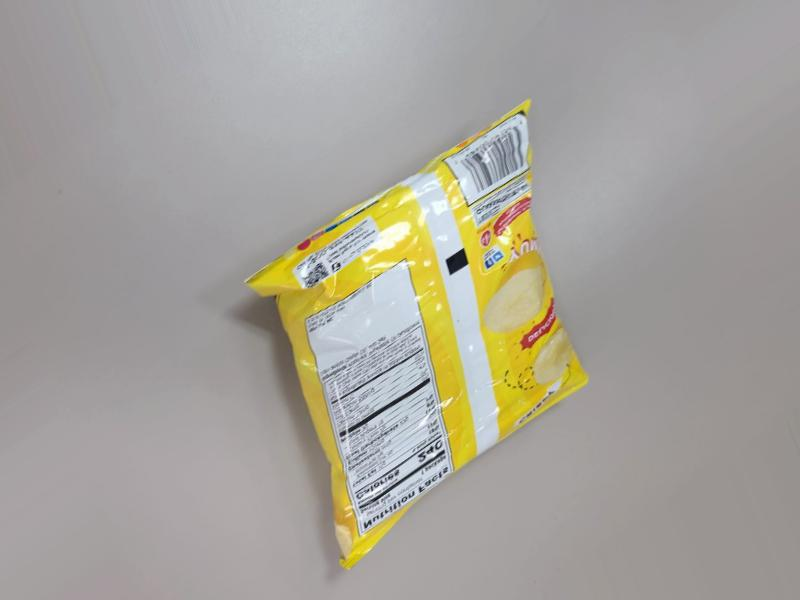lays: (240, 131, 635, 600)
